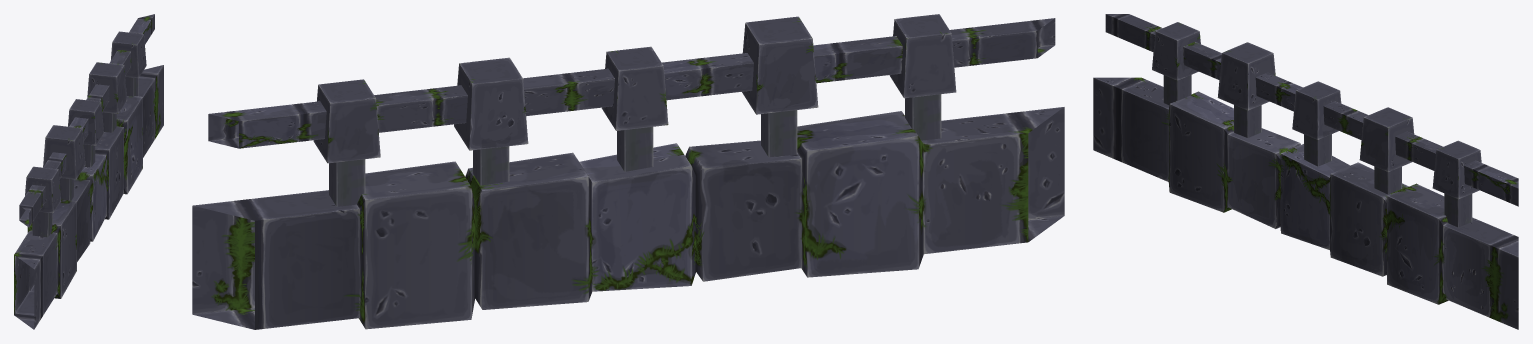
The model's file is MOD_Railing_01_angle.fbx.
The picture shows the model from 3 angles, left to right: view 1: azimuth 30°, elevation 25°; view 2: azimuth 150°, elevation 25°; view 3: azimuth 270°, elevation 25°; orthographic projection. The views are drawn at different scales.
Visible parts, largest first — view 1: MOD_Railing_01_angle; view 2: MOD_Railing_01_angle; view 3: MOD_Railing_01_angle.
Boxes of the visible parts, box(x1,y1,x2,y2) form: MOD_Railing_01_angle: box(14, 14, 163, 329); MOD_Railing_01_angle: box(192, 14, 1064, 329); MOD_Railing_01_angle: box(1093, 14, 1518, 329).
Size of the model in its own units: 424 by 176 by 424.
